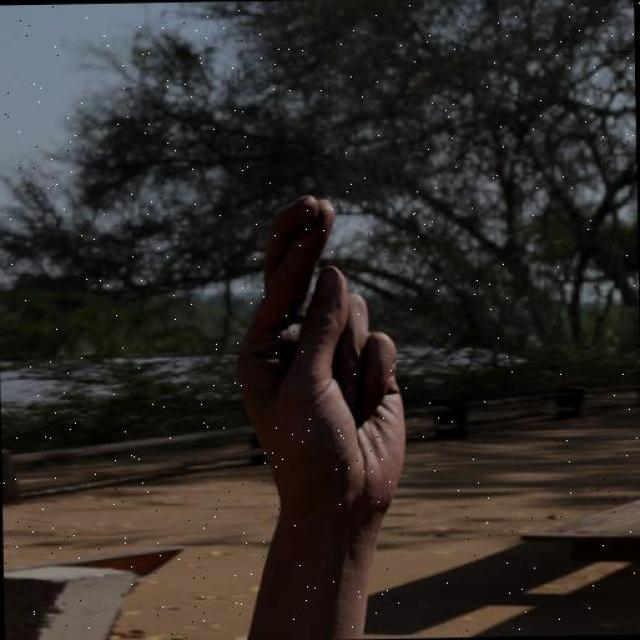R: (228, 188, 413, 532)
